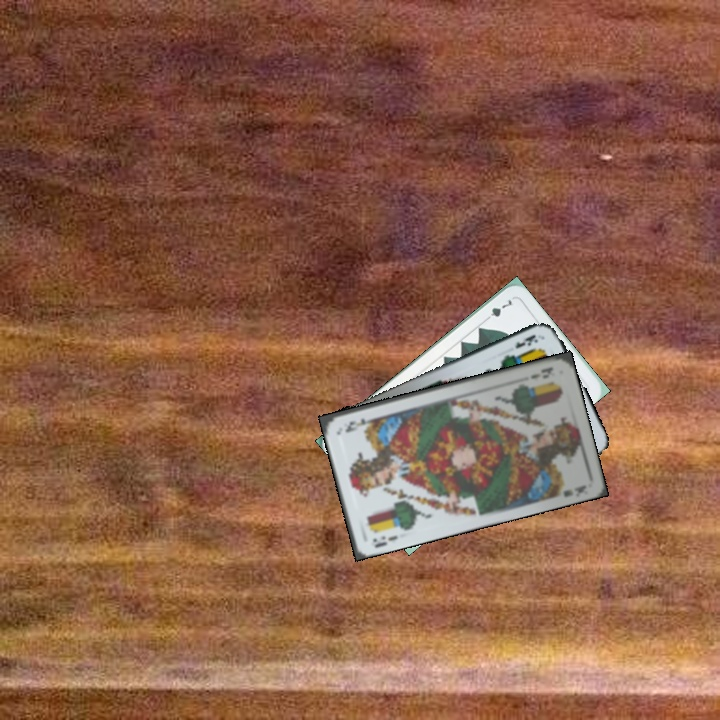EK: (368, 531, 401, 550), (511, 331, 540, 351), (526, 363, 556, 381)
G7: (480, 295, 514, 324)
